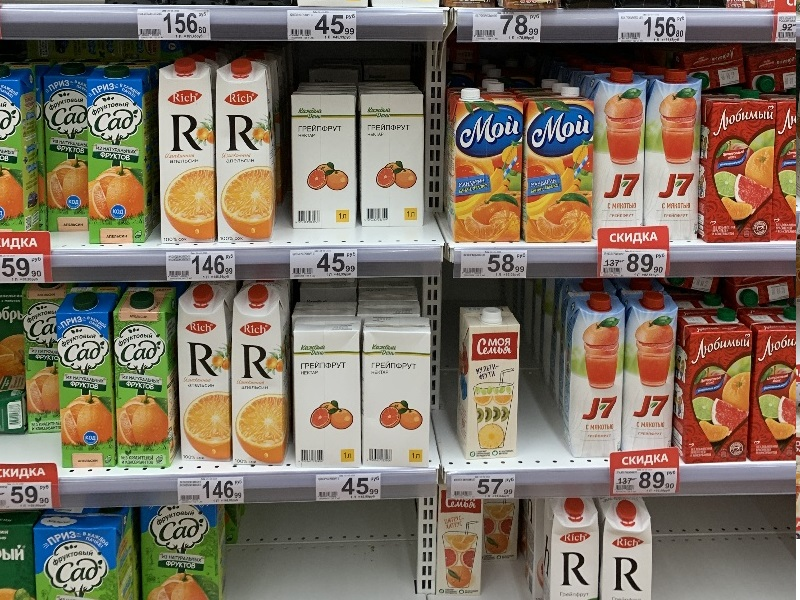juice: (145, 58, 226, 245), (84, 64, 161, 256), (166, 283, 245, 469), (44, 290, 124, 472), (106, 284, 184, 469), (442, 88, 530, 250), (224, 280, 299, 470), (207, 59, 282, 248), (672, 306, 752, 467), (523, 88, 597, 250), (615, 290, 686, 455), (700, 88, 774, 245), (457, 301, 524, 469), (644, 68, 707, 243), (565, 287, 625, 463), (591, 68, 653, 237)
